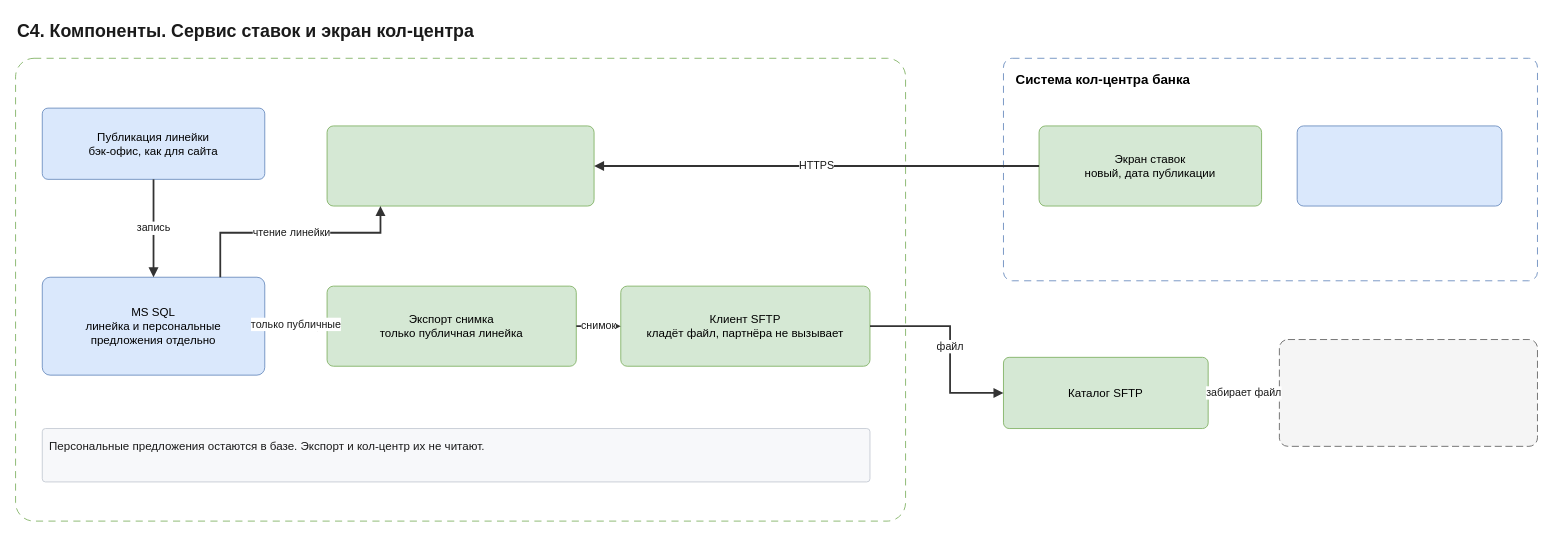
The diagram is 1553 pixels wide and 537 high, and some of its shapes have lost their labels. The shapes that lost their labels are listed below. From the top down, each one's box as (x1, y1, x2, y2) in pixels, then its label:
(326, 125, 594, 206): API публичных ставок его читают сайт и свой кол-центр
(1296, 125, 1502, 206): Карточка звонка как сейчас
(15, 57, 906, 521): Сервис ставок
(1278, 339, 1537, 446): Система партнёра загрузчик файла заменяет снимок целиком
